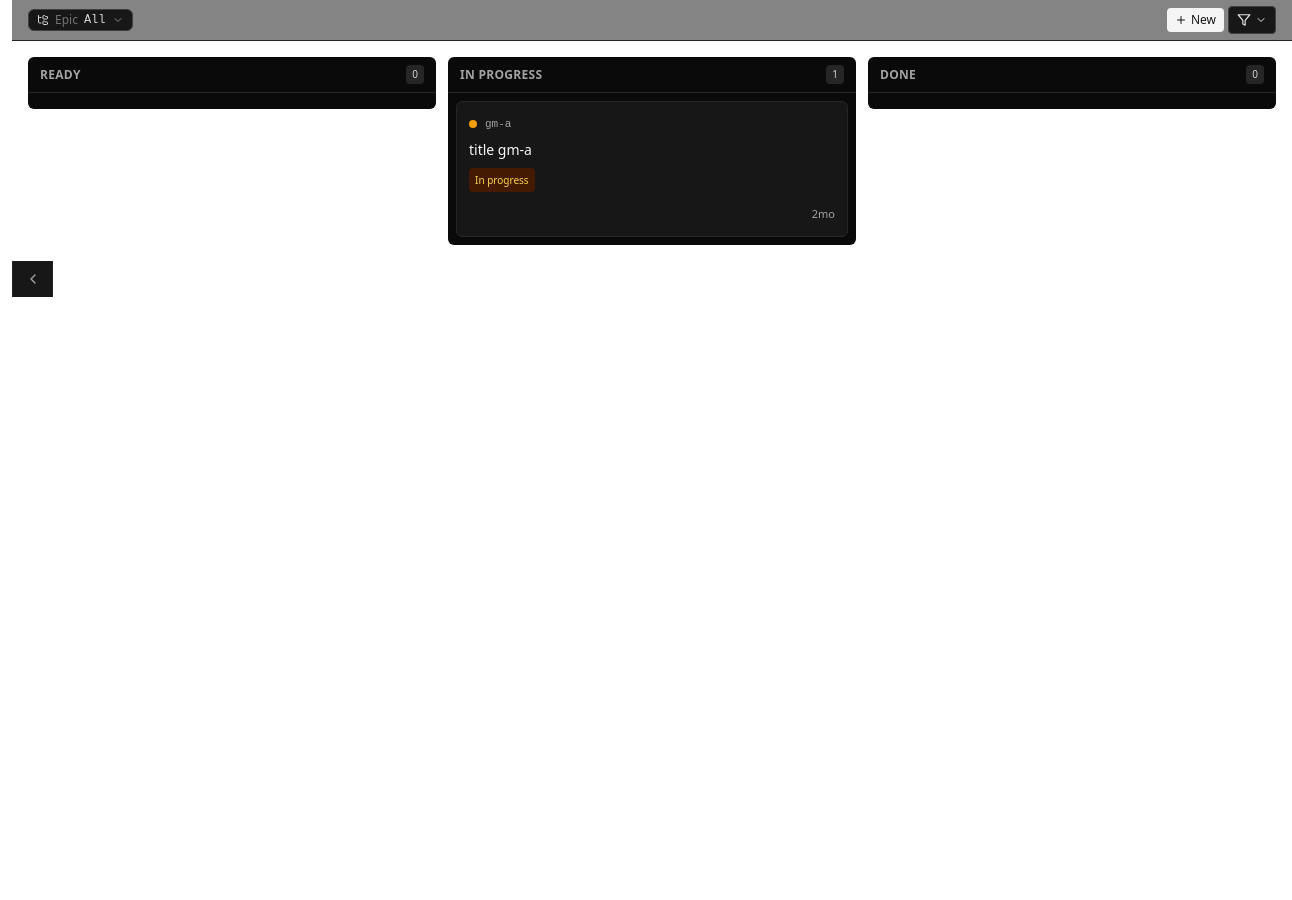
Test: BoardPage › ?view=workitem still opens the WorkItem detail (RHP) on card click
Click the button with aria-label "open bead gm-a": [500, 150] box top-left (456, 101), bottom-right (848, 237)
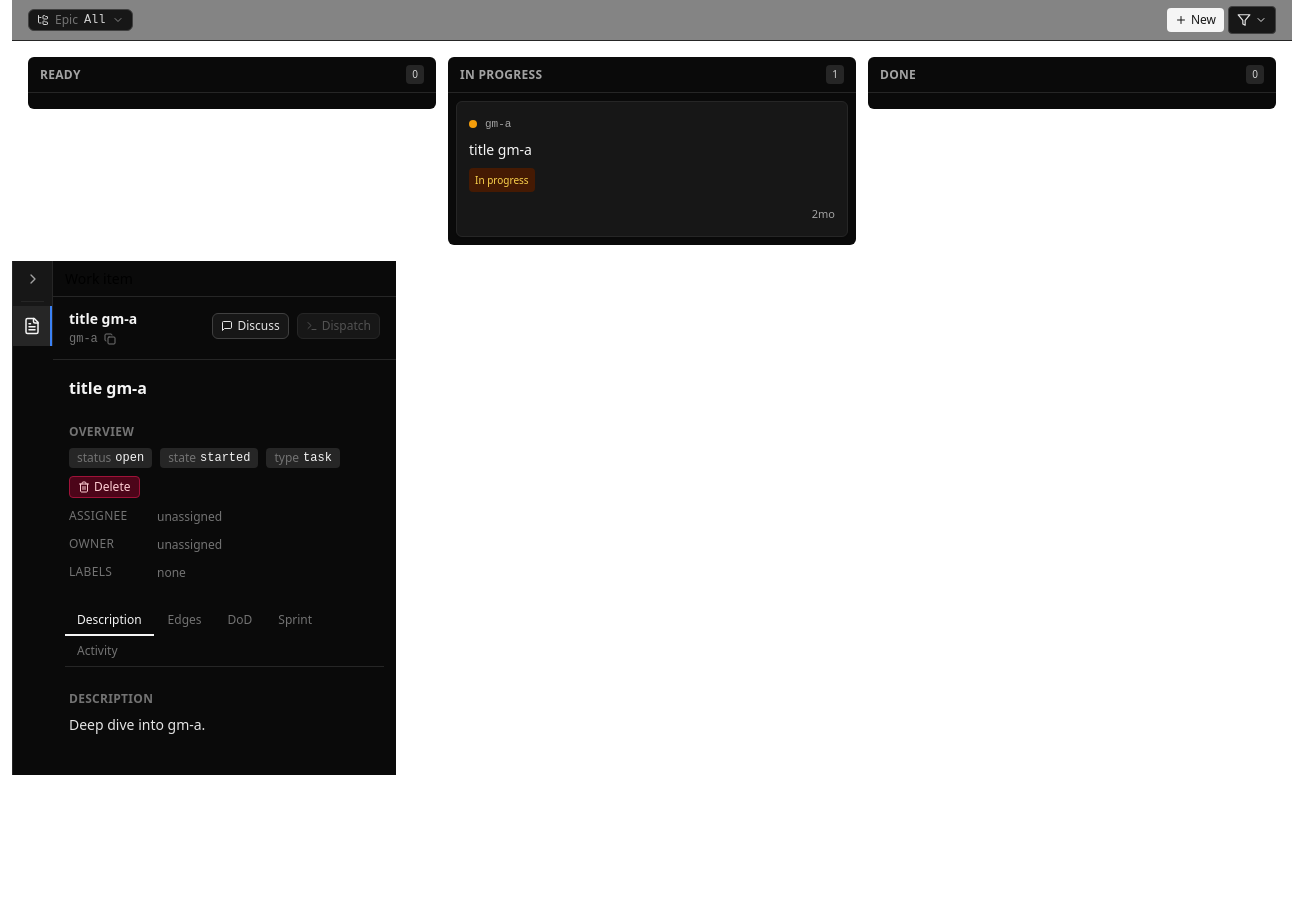
Expected: the text with test id "workitem-detail-id" is shown, top-left (69, 331), bottom-right (98, 347)
Expected: the text "Deep dive into gm-a." is shown, top-left (69, 715), bottom-right (205, 734)
